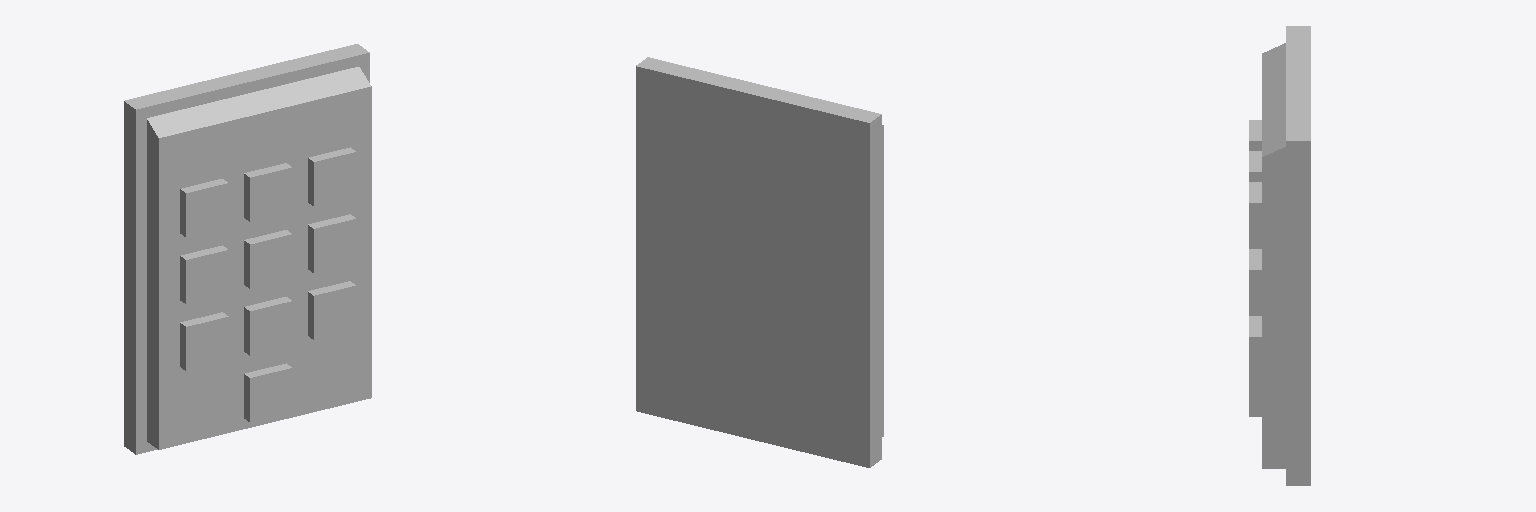
Rendered from keypad.obj.
The picture shows the model from 3 angles: view 1: azimuth 30°, elevation 25°; view 2: azimuth 150°, elevation 25°; view 3: azimuth 270°, elevation 25°; orthographic projection.
Parts seen in each view (by area): view 1: pCube14; view 2: pCube14; view 3: pCube14.
Part boxes in pixels (x1,y1,x2,y2): pCube14: (124,44,371,454); pCube14: (636,57,883,467); pCube14: (1249,26,1310,485).
Bounding box in the file's own units: 1.1 × 1.55 × 0.25.